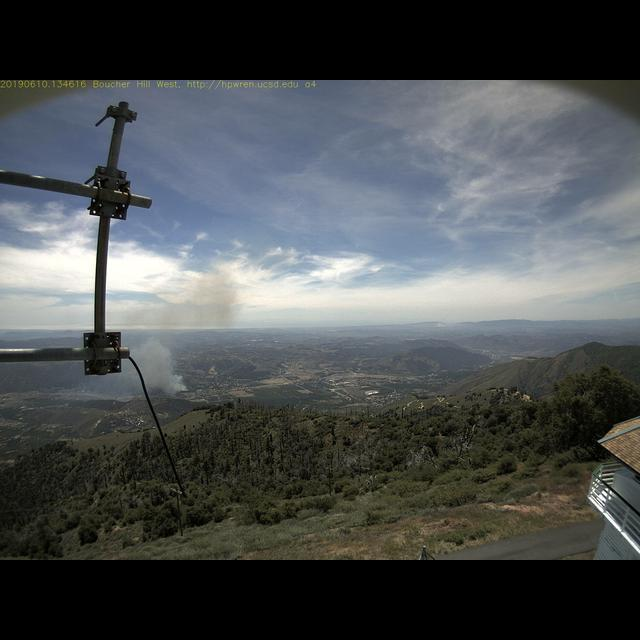Smoke: (113, 255, 242, 398)
